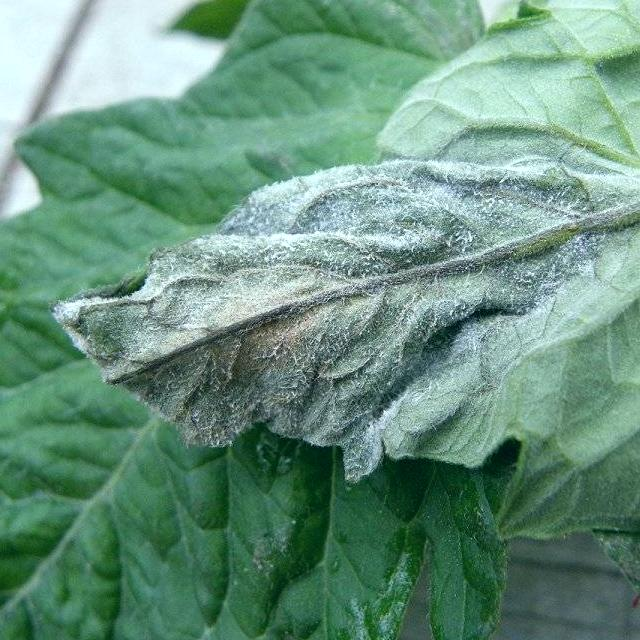Tomato leaf late blight: (39, 0, 640, 541)
